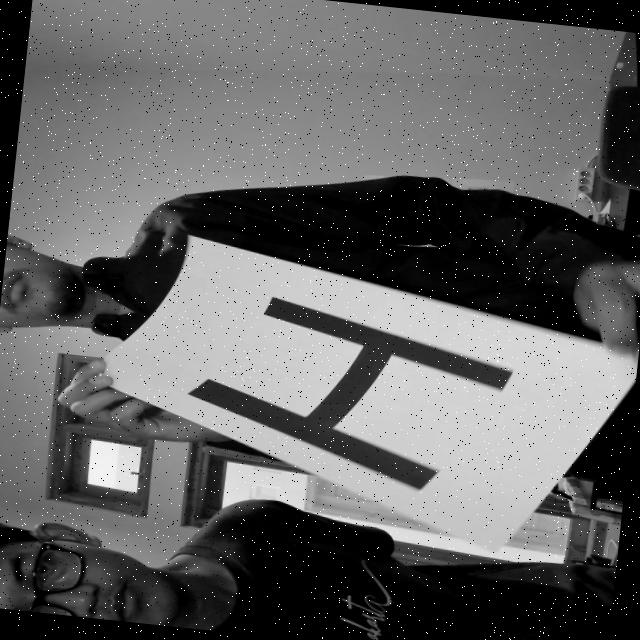h: (162, 282, 520, 498)
